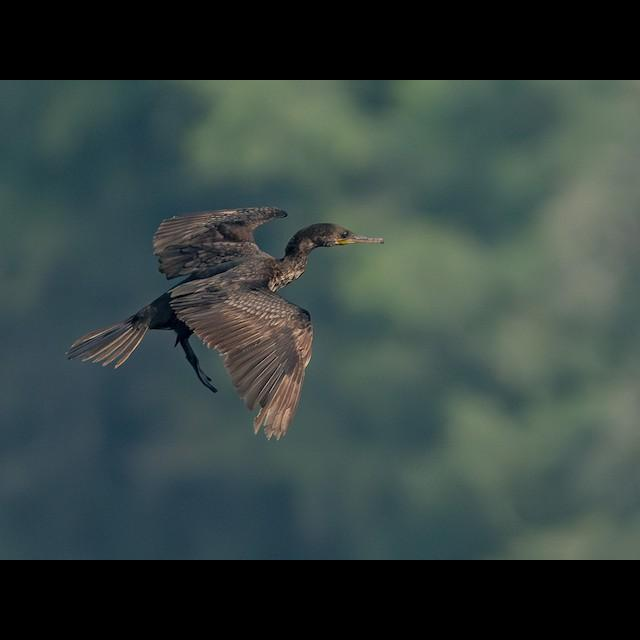cormorant: (63, 205, 389, 448)
